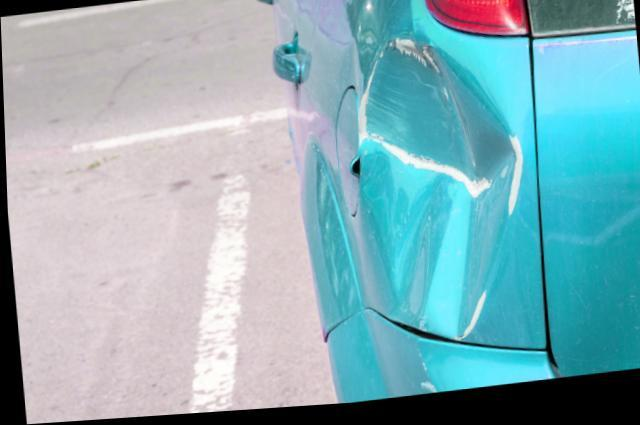dent: (360, 45, 517, 344)
